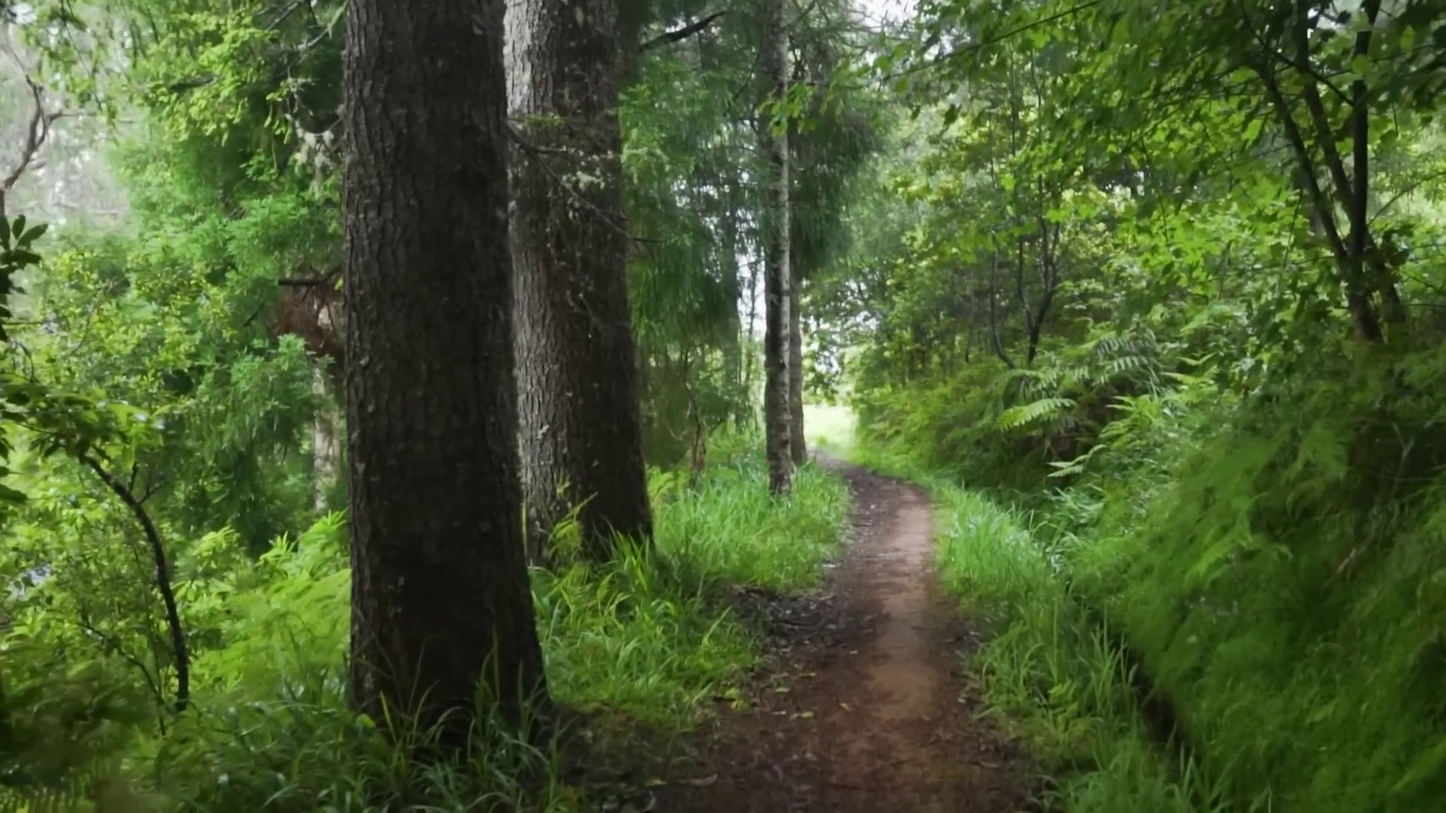tree: (343, 0, 545, 737), (508, 0, 651, 558), (758, 0, 793, 493)
